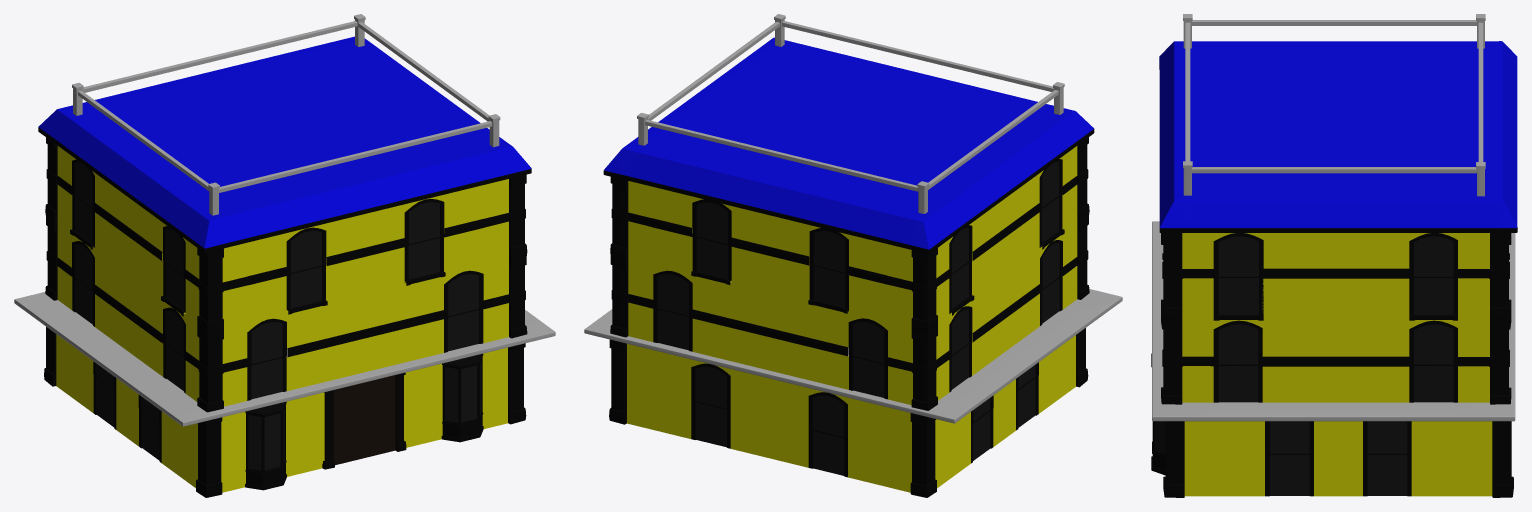
File: Buildiing1.fbx
The picture shows the model from 3 angles, left to right: view 1: azimuth 30°, elevation 25°; view 2: azimuth 150°, elevation 25°; view 3: azimuth 270°, elevation 25°; orthographic projection. The views are drawn at different scales.
Parts seen in each view (by area): view 1: Building1Modular, Building1Trim; view 2: Building1Modular, Building1Trim; view 3: Building1Modular, Building1Trim.
Boxes of the visible parts, x1,y1,x2,y2 form: Building1Modular: [38, 36, 531, 497]; Building1Trim: [14, 14, 555, 426]; Building1Modular: [603, 37, 1094, 497]; Building1Trim: [584, 14, 1122, 423]; Building1Modular: [1151, 41, 1517, 497]; Building1Trim: [1152, 14, 1515, 421].
Bounding box in the file's own units: 114 × 87.77 × 89.91.
